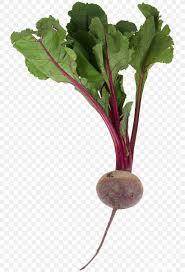non-mango: (95, 169, 143, 209)
